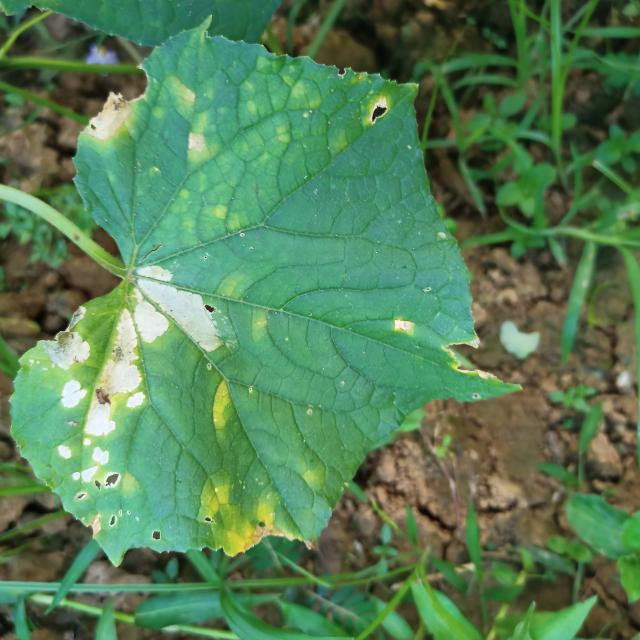disease_cucumber: (47, 257, 225, 547), (198, 463, 288, 561), (168, 68, 232, 170), (200, 374, 242, 438)
